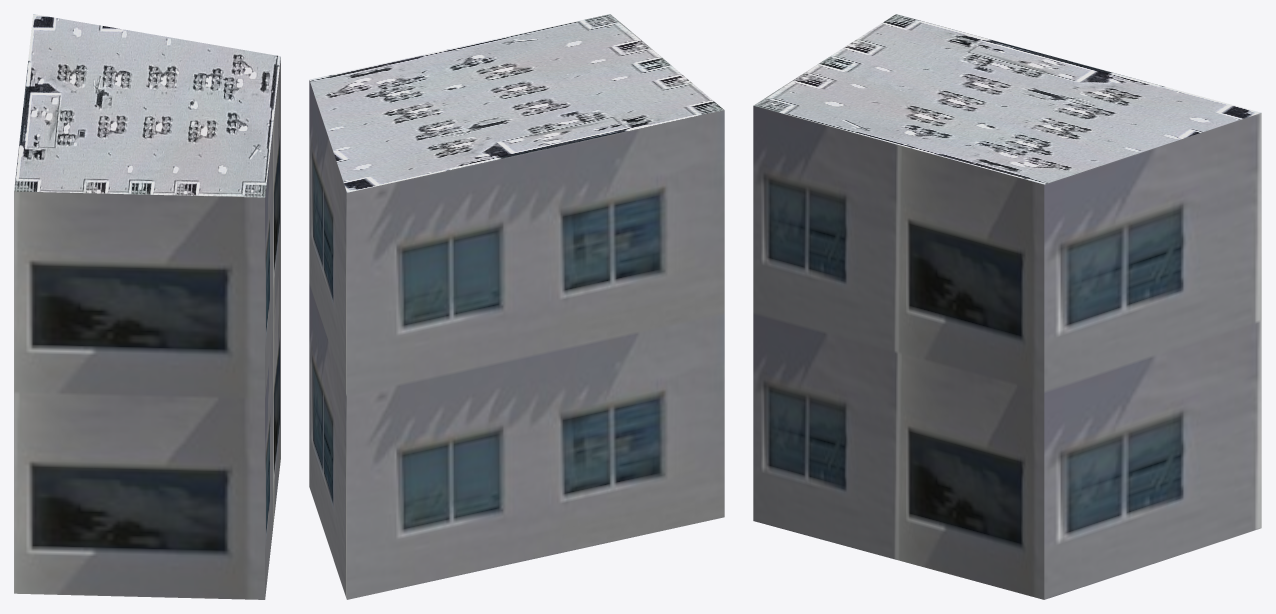
Rendered from ResTex__3734.fbx.
3 views of the same model, side by side, from view 1: azimuth 30°, elevation 25°; view 2: azimuth 150°, elevation 25°; view 3: azimuth 270°, elevation 25° (orthographic). The views are drawn at different scales.
Parts seen in each view (by area): view 1: CityEngineMaterial_10_m, CityEngineMaterial_4_m; view 2: CityEngineMaterial_10_m, CityEngineMaterial_4_m; view 3: CityEngineMaterial_10_m, CityEngineMaterial_4_m.
Boxes of the visible parts, <box> form: CityEngineMaterial_10_m: <box>14,57,280,599</box>; CityEngineMaterial_4_m: <box>14,14,280,197</box>; CityEngineMaterial_10_m: <box>309,80,724,599</box>; CityEngineMaterial_4_m: <box>309,14,724,192</box>; CityEngineMaterial_10_m: <box>753,105,1261,599</box>; CityEngineMaterial_4_m: <box>754,14,1261,184</box>.
Size of the model in its own units: 5.28 by 6 by 6.65.
Materials: 2 (2 with a texture image).
